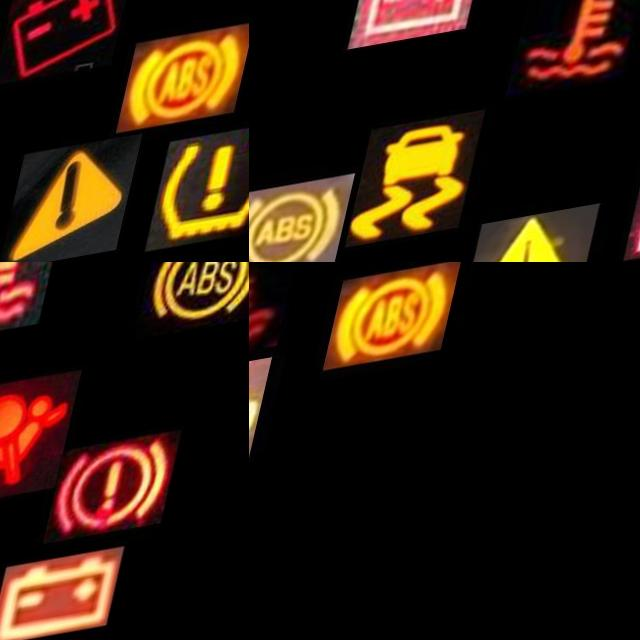Central Warning lamp: (21, 145, 160, 262), (478, 219, 614, 262)
Engine cooling system: (514, 0, 640, 111), (249, 262, 311, 375), (0, 262, 71, 355)
